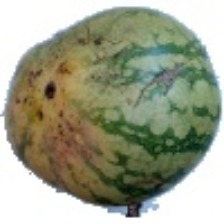watermelon: (13, 38, 214, 223)
